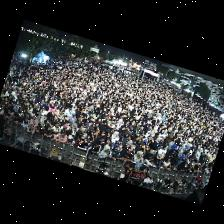person: (85, 142, 101, 164), (154, 145, 167, 167), (176, 151, 188, 167), (150, 138, 161, 155), (119, 148, 132, 161), (73, 134, 85, 147), (54, 131, 67, 143), (99, 146, 111, 158), (134, 142, 145, 155), (143, 153, 154, 166), (162, 157, 171, 172), (177, 160, 188, 172), (44, 125, 54, 138), (86, 130, 95, 144), (5, 110, 14, 123), (96, 131, 105, 144), (111, 146, 119, 160), (111, 132, 119, 146), (27, 124, 38, 134), (122, 141, 133, 151), (102, 138, 112, 149), (134, 151, 143, 163), (65, 105, 72, 120), (40, 112, 47, 127), (70, 123, 78, 136), (30, 114, 38, 127), (167, 137, 175, 150), (52, 122, 60, 135), (51, 116, 61, 126), (13, 113, 22, 124), (22, 116, 29, 130), (115, 141, 122, 155), (49, 103, 56, 116), (122, 136, 131, 146), (81, 127, 89, 138), (99, 120, 107, 131), (69, 114, 76, 126), (61, 124, 69, 134), (116, 119, 123, 130), (178, 147, 185, 158), (199, 165, 208, 173), (194, 163, 201, 172), (67, 136, 74, 145), (121, 175, 130, 182), (196, 149, 201, 161)
